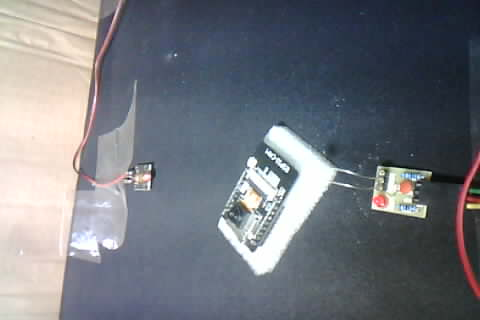esp32: (213, 117, 324, 270)
